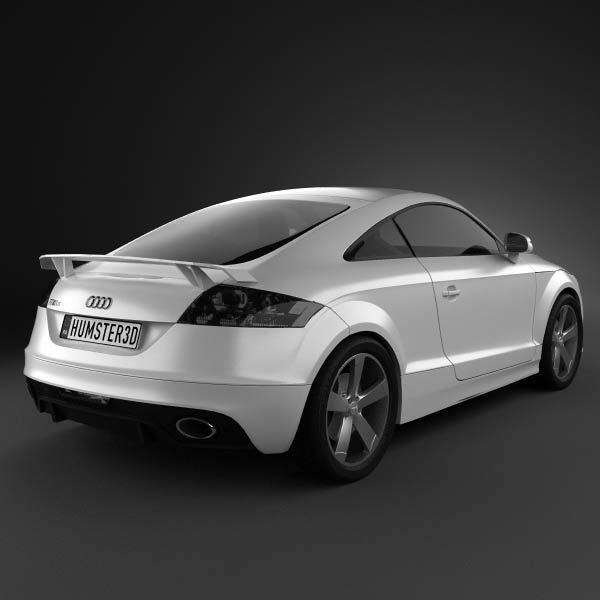car: (24, 187, 586, 483)
